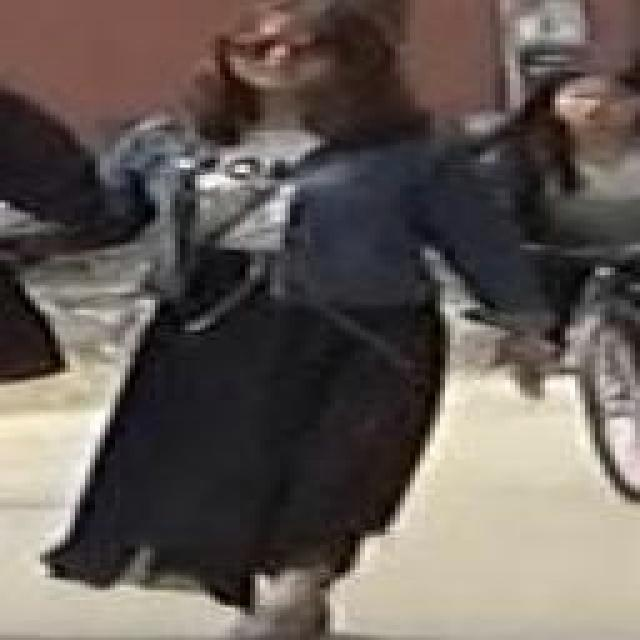adult: (51, 1, 558, 640), (470, 68, 640, 392)
